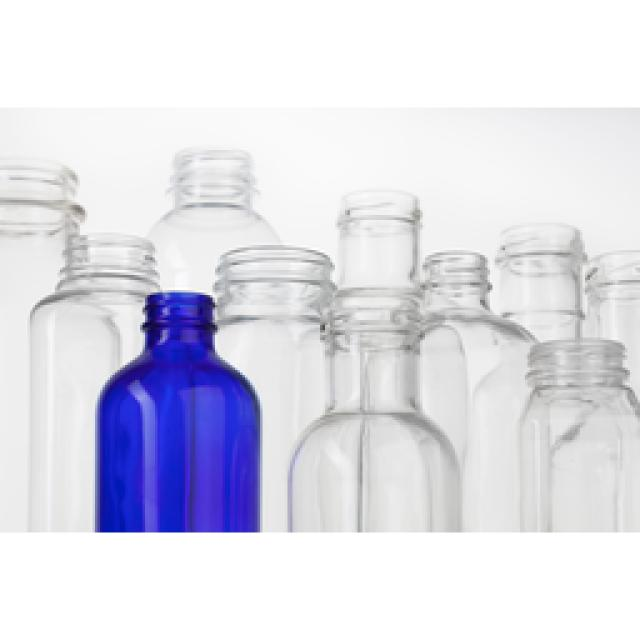glass_beverage_bottles: (97, 282, 253, 526)
